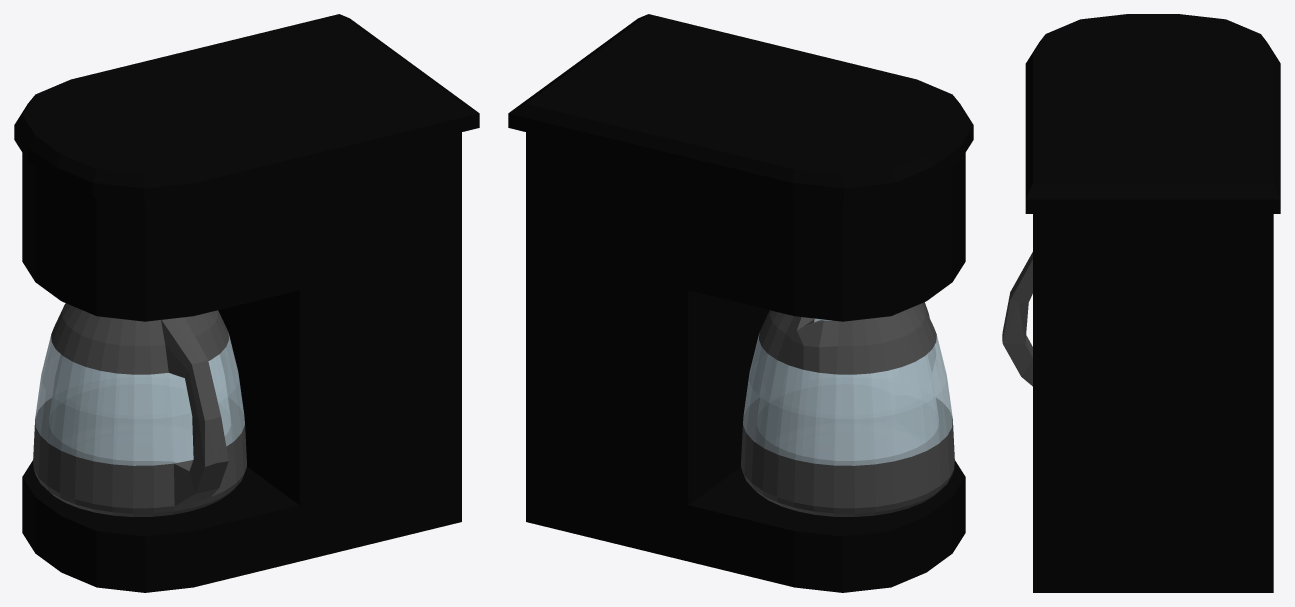
Rendered from coffee pot.glb.
3 renders of one model, left to right at view 1: azimuth 30°, elevation 25°; view 2: azimuth 150°, elevation 25°; view 3: azimuth 270°, elevation 25°, orthographic.
Visible parts, largest first — view 1: Cube, Sphere; view 2: Cube, Sphere; view 3: Cube, Sphere.
Part boxes in pixels (box(x1,y1,x2,y2)): Cube: box(14, 14, 479, 592); Sphere: box(33, 303, 246, 516); Cube: box(508, 14, 973, 592); Sphere: box(741, 302, 954, 516); Cube: box(1025, 14, 1280, 592); Sphere: box(1002, 252, 1032, 386).
Bounding box in the file's own units: 0.4722 × 0.5057 × 0.311.
